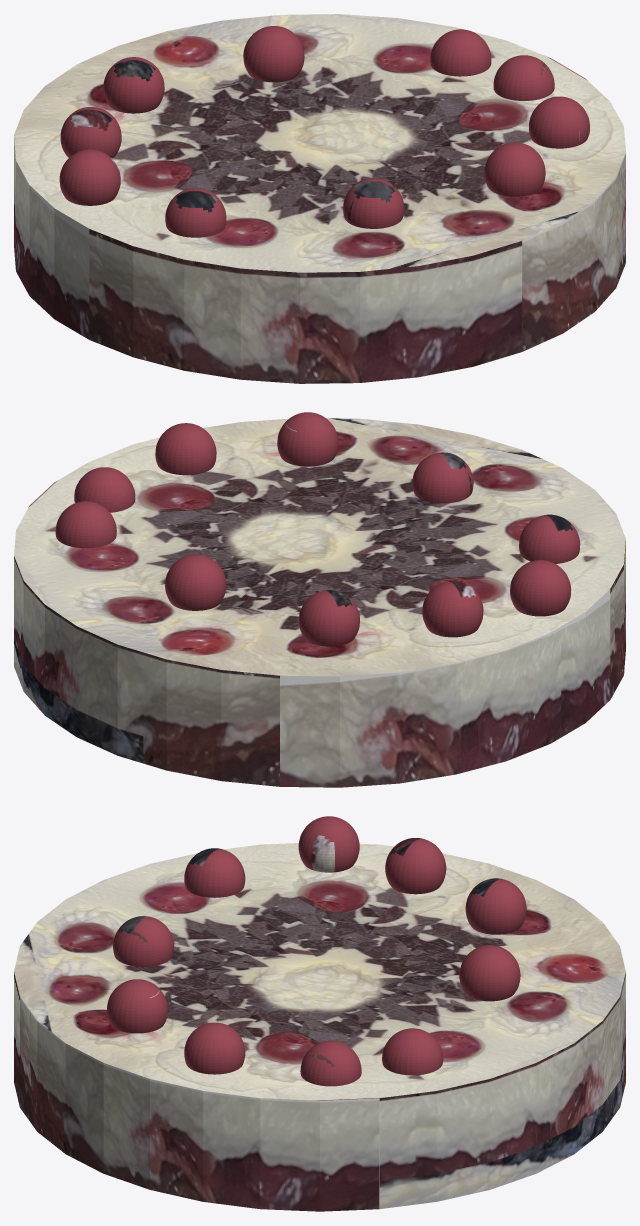
The model's file is cake20.glb.
3 renders of one model, top to bottom at view 1: azimuth 30°, elevation 25°; view 2: azimuth 150°, elevation 25°; view 3: azimuth 270°, elevation 25°, orthographic.
Parts seen in each view (by area): view 1: Sphere.001; view 2: Sphere.001; view 3: Sphere.001.
Part boxes in pixels (x1,y1,x2,y2): Sphere.001: (14,14,625,383); Sphere.001: (14,412,625,787); Sphere.001: (14,816,625,1211).
Bounding box in the file's own units: 2 × 0.5538 × 2.
Materials: 1 (1 with a texture image).
